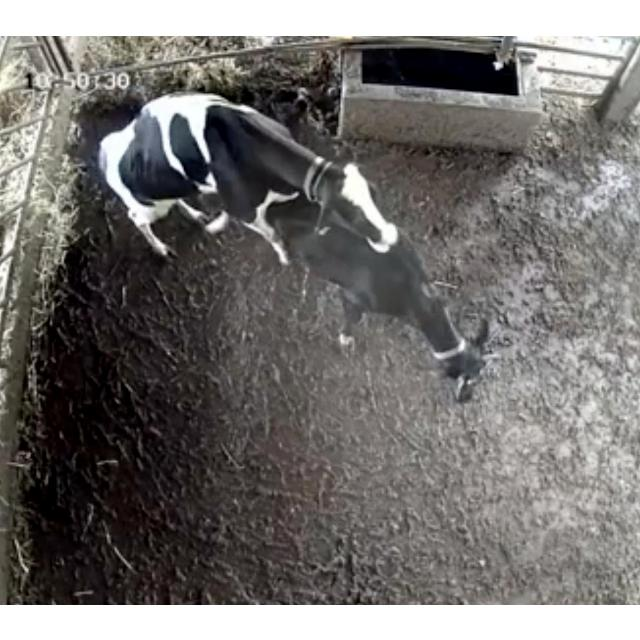ride: (98, 90, 399, 263)
